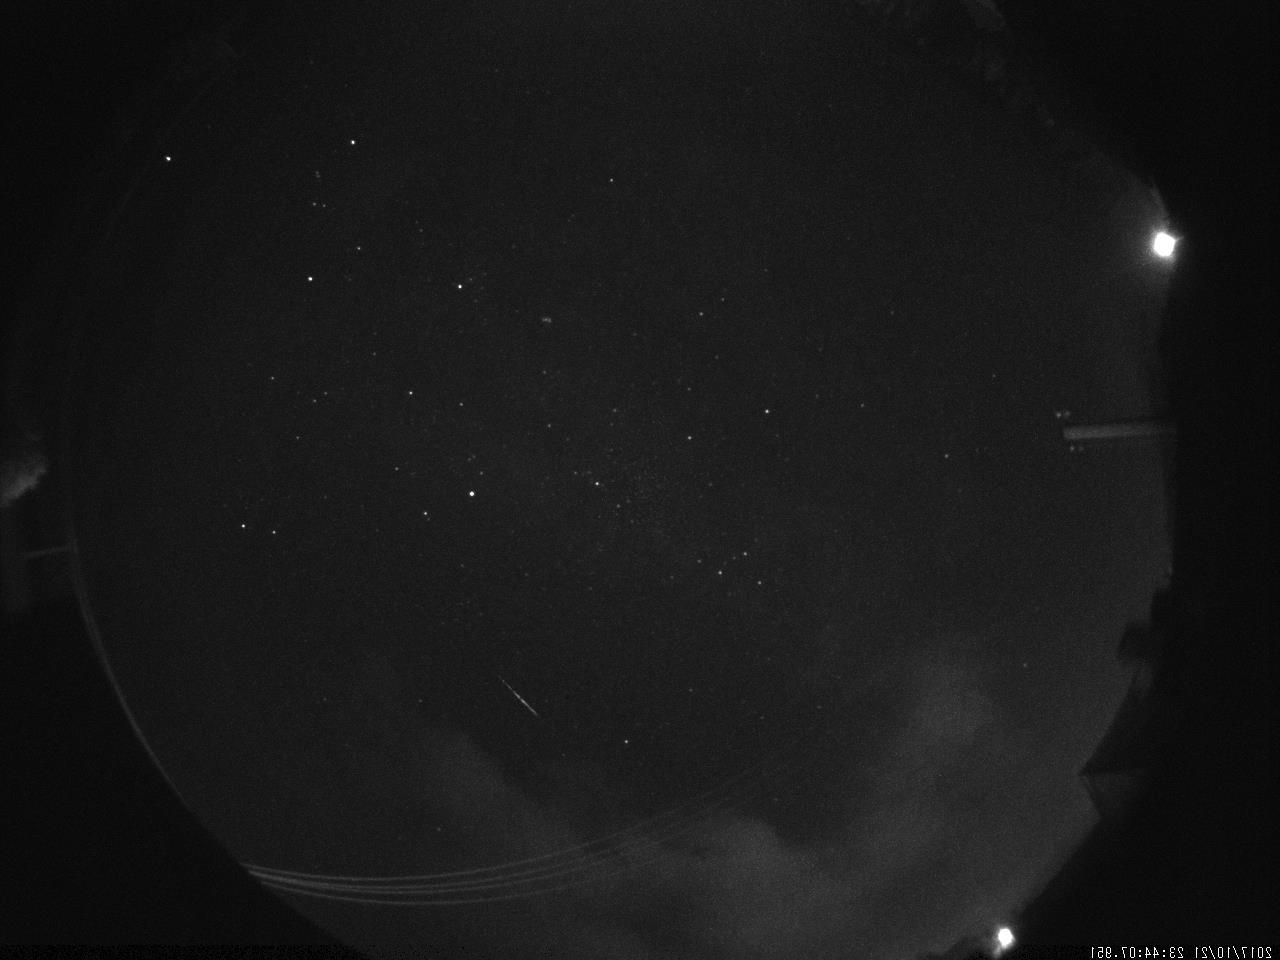meteor: (498, 669, 542, 725)
